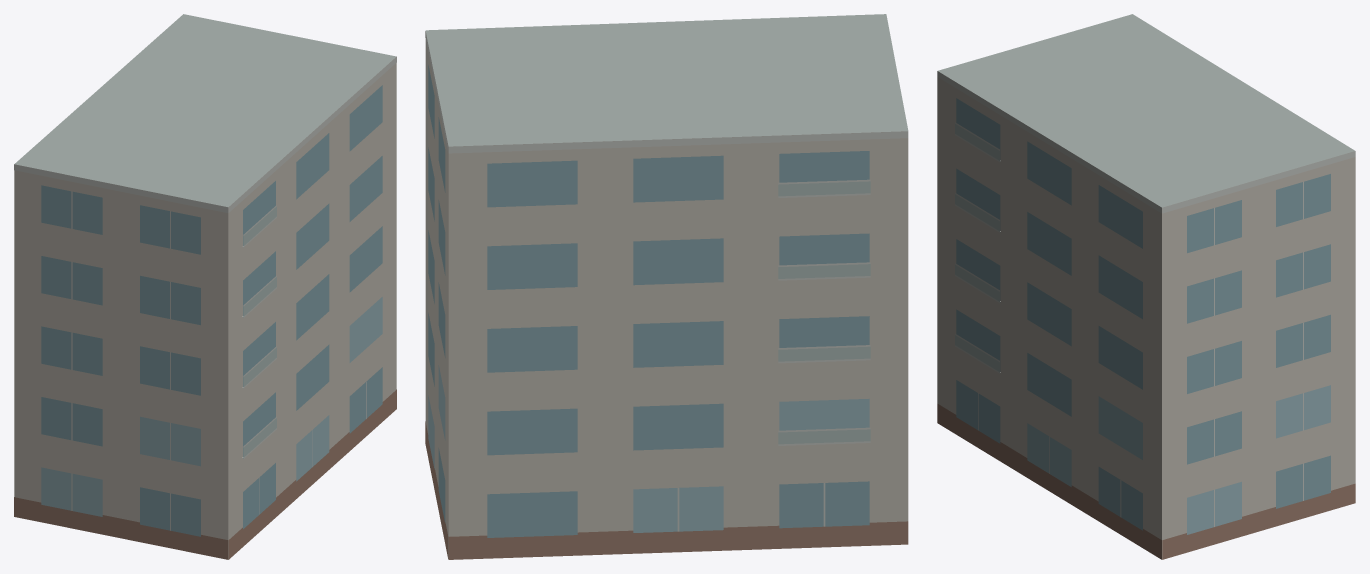
File: survey-upis-33016142.glb
3 renders of one model, left to right at view 1: azimuth 30°, elevation 25°; view 2: azimuth 150°, elevation 25°; view 3: azimuth 270°, elevation 25°, orthographic. The views are drawn at different scales.
Parts seen in each view (by area): view 1: survey-upis-33016142.tmp; view 2: survey-upis-33016142.tmp; view 3: survey-upis-33016142.tmp.
Part boxes in pixels (x1=…): survey-upis-33016142.tmp: x1=14, y1=14, x2=396, y2=559; survey-upis-33016142.tmp: x1=425, y1=14, x2=908, y2=559; survey-upis-33016142.tmp: x1=937, y1=14, x2=1355, y2=559.
Bounding box in the file's own units: 16.99 × 14.4 × 15.5.
